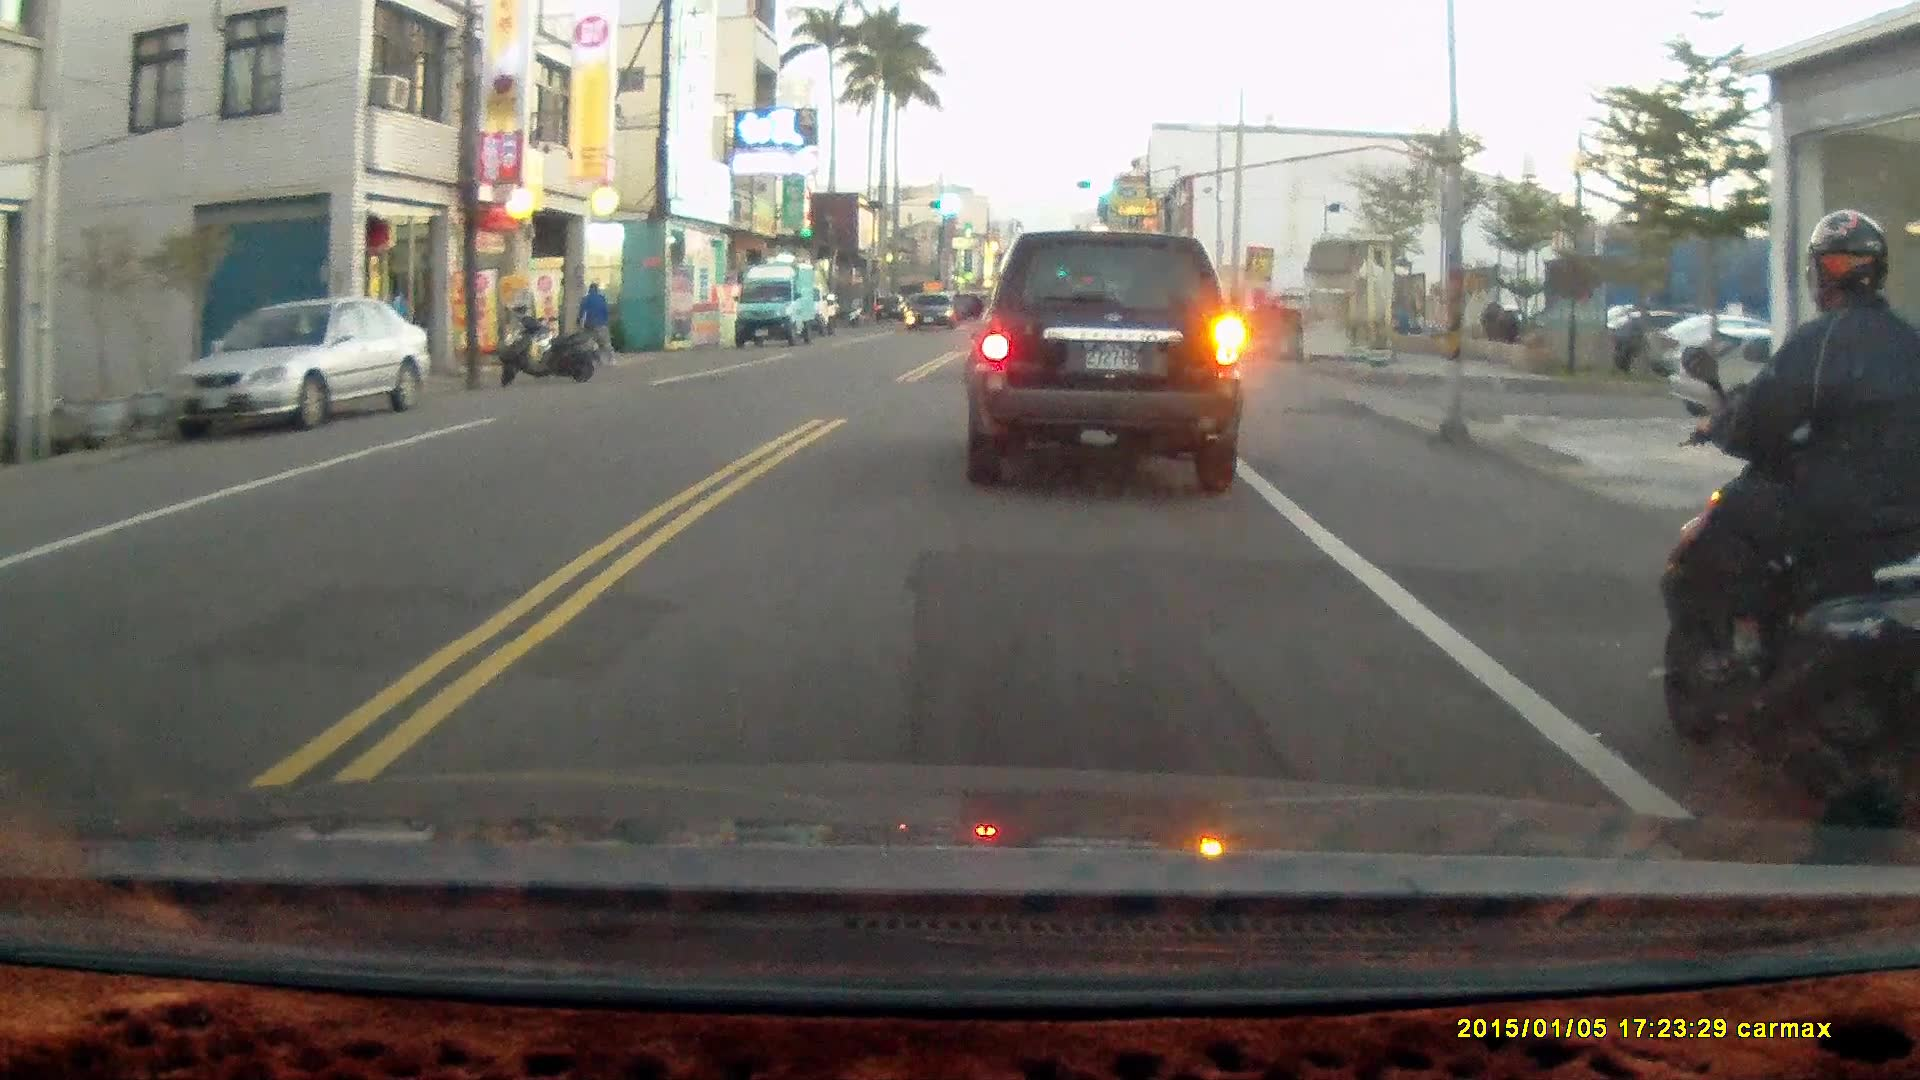pedestrian: (575, 279, 617, 369)
rider: (1655, 210, 1920, 871)
vehicle: (969, 228, 1249, 502), (172, 296, 431, 433), (1678, 330, 1898, 422), (734, 259, 817, 347), (904, 294, 960, 332)
